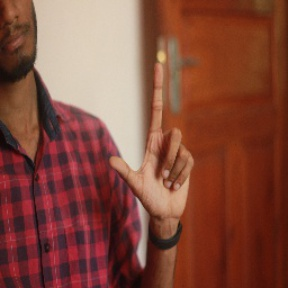L: (108, 62, 197, 215)
